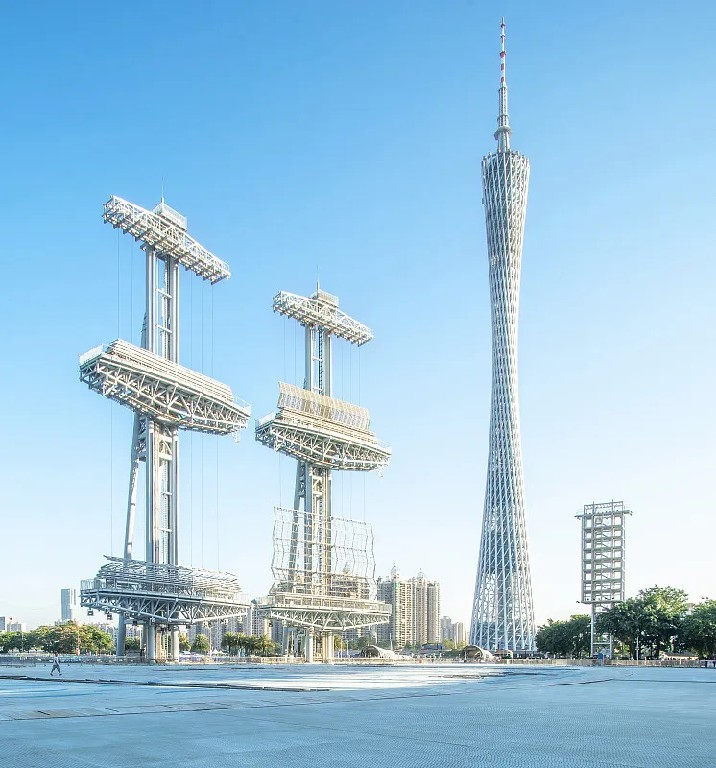Canton: (465, 14, 538, 653)
